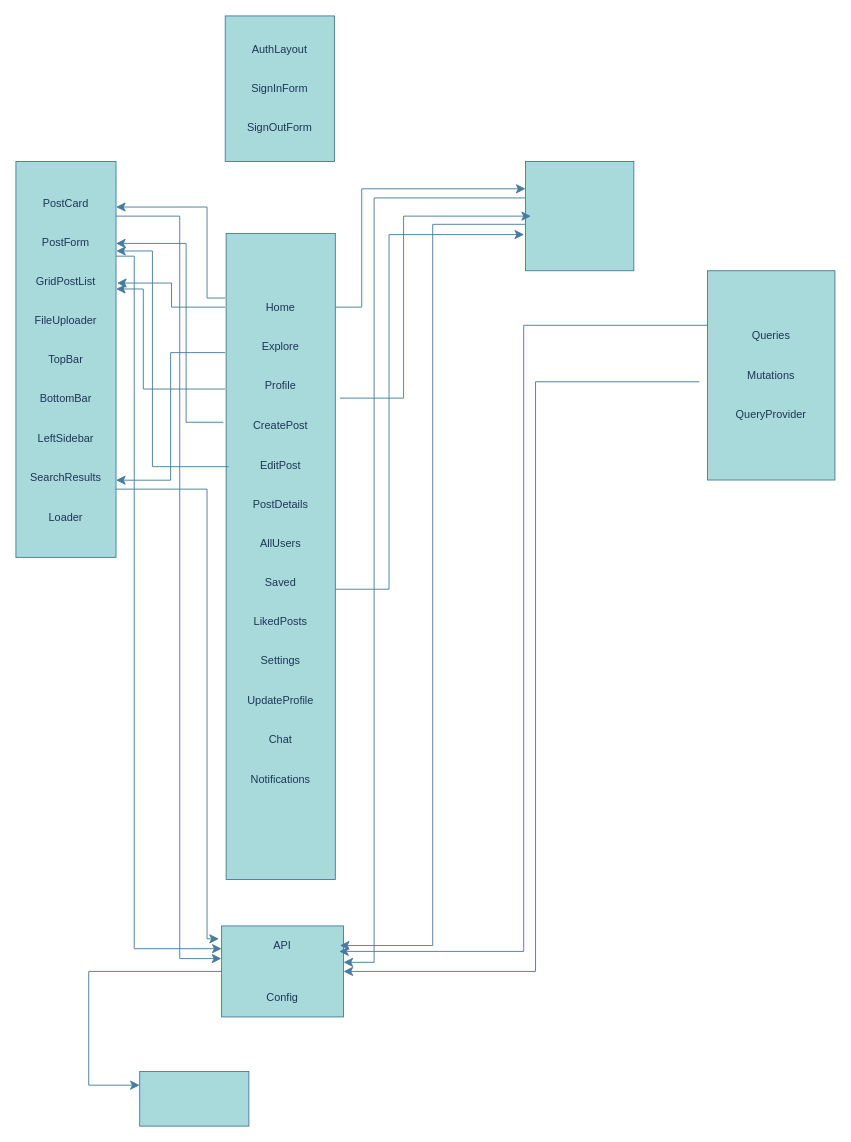
This 851x1142 diagram has some shape labels left out. The centre of each missing label's shape, as x and y in pixels:
"Appwrite" belongs at (194,1098).
"AuthContext SavedPostsContext" belongs at (579,216).
